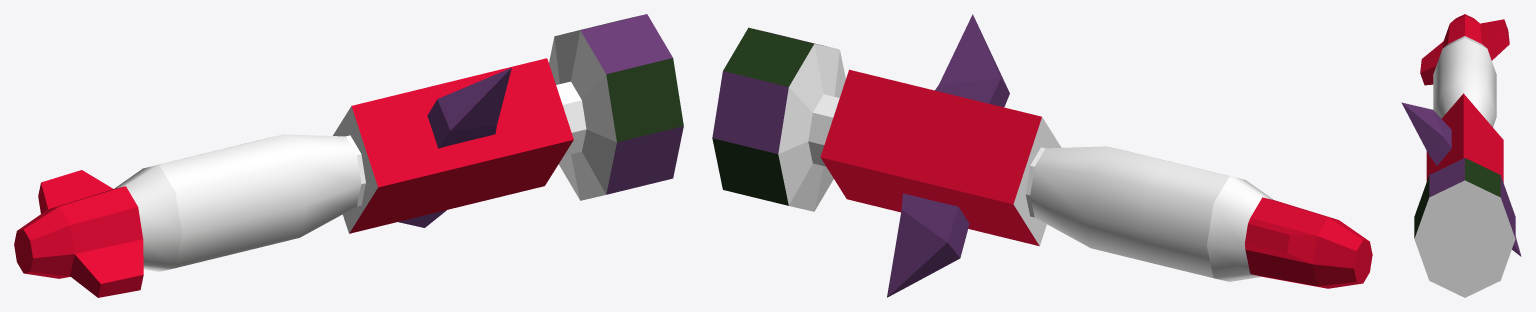
File: Missile2.FBX
The picture shows the model from 3 angles, left to right: view 1: azimuth 30°, elevation 25°; view 2: azimuth 150°, elevation 25°; view 3: azimuth 270°, elevation 25°; orthographic projection. The views are drawn at different scales.
Visible parts, largest first — view 1: Cylinder001, Box001; view 2: Cylinder001, Box001; view 3: Cylinder001, Box001.
Boxes of the visible parts, left/top/right/bottom form: Cylinder001: left=14, top=14, right=683, bottom=297; Box001: left=333, top=58, right=573, bottom=233; Cylinder001: left=712, top=27, right=1372, bottom=288; Box001: left=820, top=14, right=1061, bottom=297; Cylinder001: left=1414, top=14, right=1515, bottom=297; Box001: left=1401, top=93, right=1521, bottom=256.
Bounding box in the file's own units: 260 × 89.45 × 63.02.
Materials: 1 (1 with a texture image).
